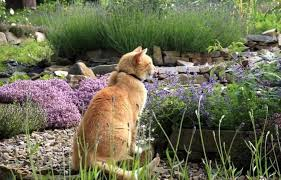cat: (74, 46, 155, 178)
